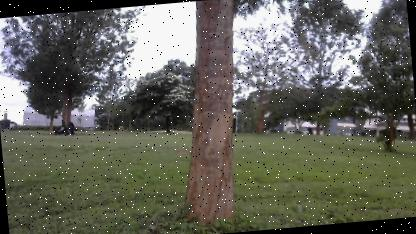tree: (167, 0, 259, 230), (0, 6, 144, 140)
